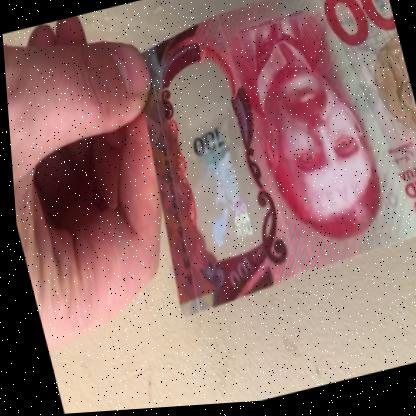100F: (168, 80, 257, 257)
